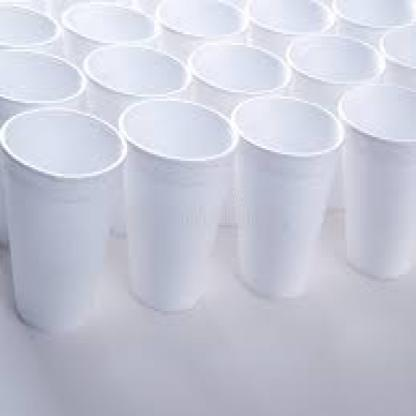paper: (0, 105, 126, 329), (119, 96, 238, 306), (228, 94, 341, 294), (338, 82, 414, 276), (80, 40, 193, 128), (188, 39, 292, 133), (286, 30, 384, 118), (0, 43, 87, 118), (61, 0, 159, 43), (154, 0, 249, 43), (244, 0, 334, 43), (333, 0, 415, 37), (0, 0, 60, 50), (379, 21, 414, 86)
